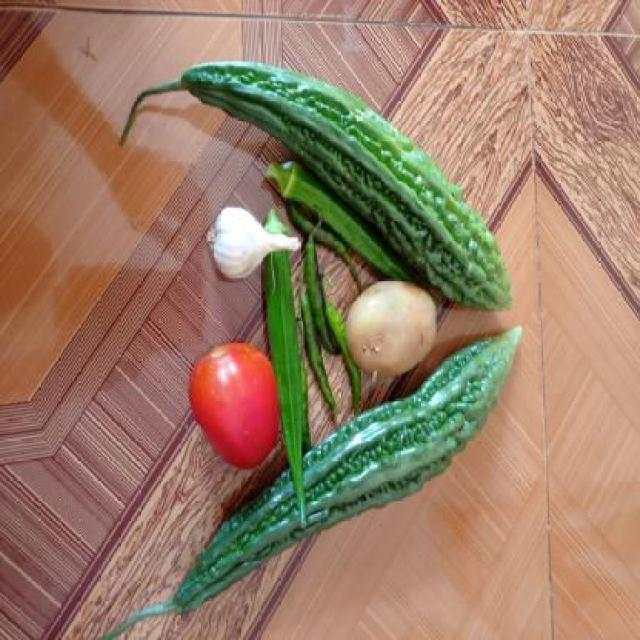Bitter melon: (415, 192, 511, 280), (318, 436, 424, 506)
Garlic: (209, 208, 302, 280)
Lady finger: (266, 252, 314, 528)
Potato: (346, 278, 432, 376)
Tomato: (191, 340, 280, 468)
